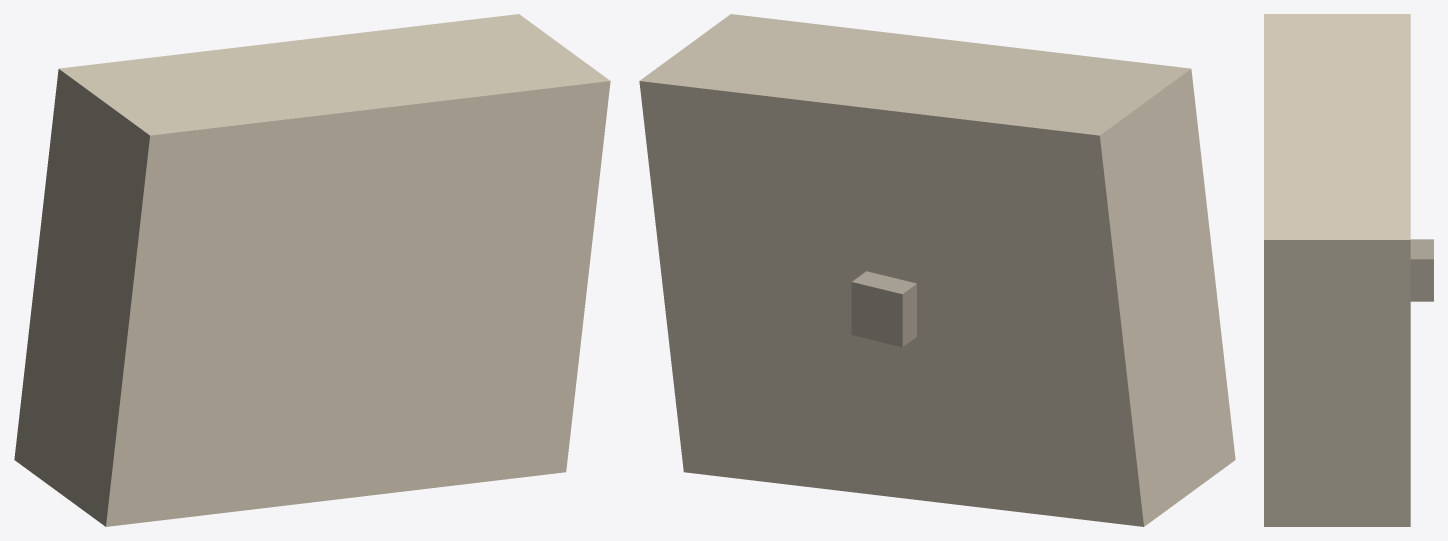
File: historic-palestine-12_29_3536_3239.glb
3 views of the same model, side by side, from view 1: azimuth 30°, elevation 25°; view 2: azimuth 150°, elevation 25°; view 3: azimuth 270°, elevation 25° (orthographic). The views are drawn at different scales.
Visible parts, largest first — view 1: Building_; view 2: Building_, Roof access hut; view 3: Building_, Roof access hut.
Part boxes in pixels (x1,y1,x2,y2): Building_: [14, 14, 610, 526]; Building_: [639, 14, 1235, 526]; Roof access hut: [851, 271, 916, 347]; Building_: [1264, 14, 1410, 526]; Roof access hut: [1410, 239, 1433, 301].
Size of the model in its own units: 23.88 by 19.8 by 8.7.
